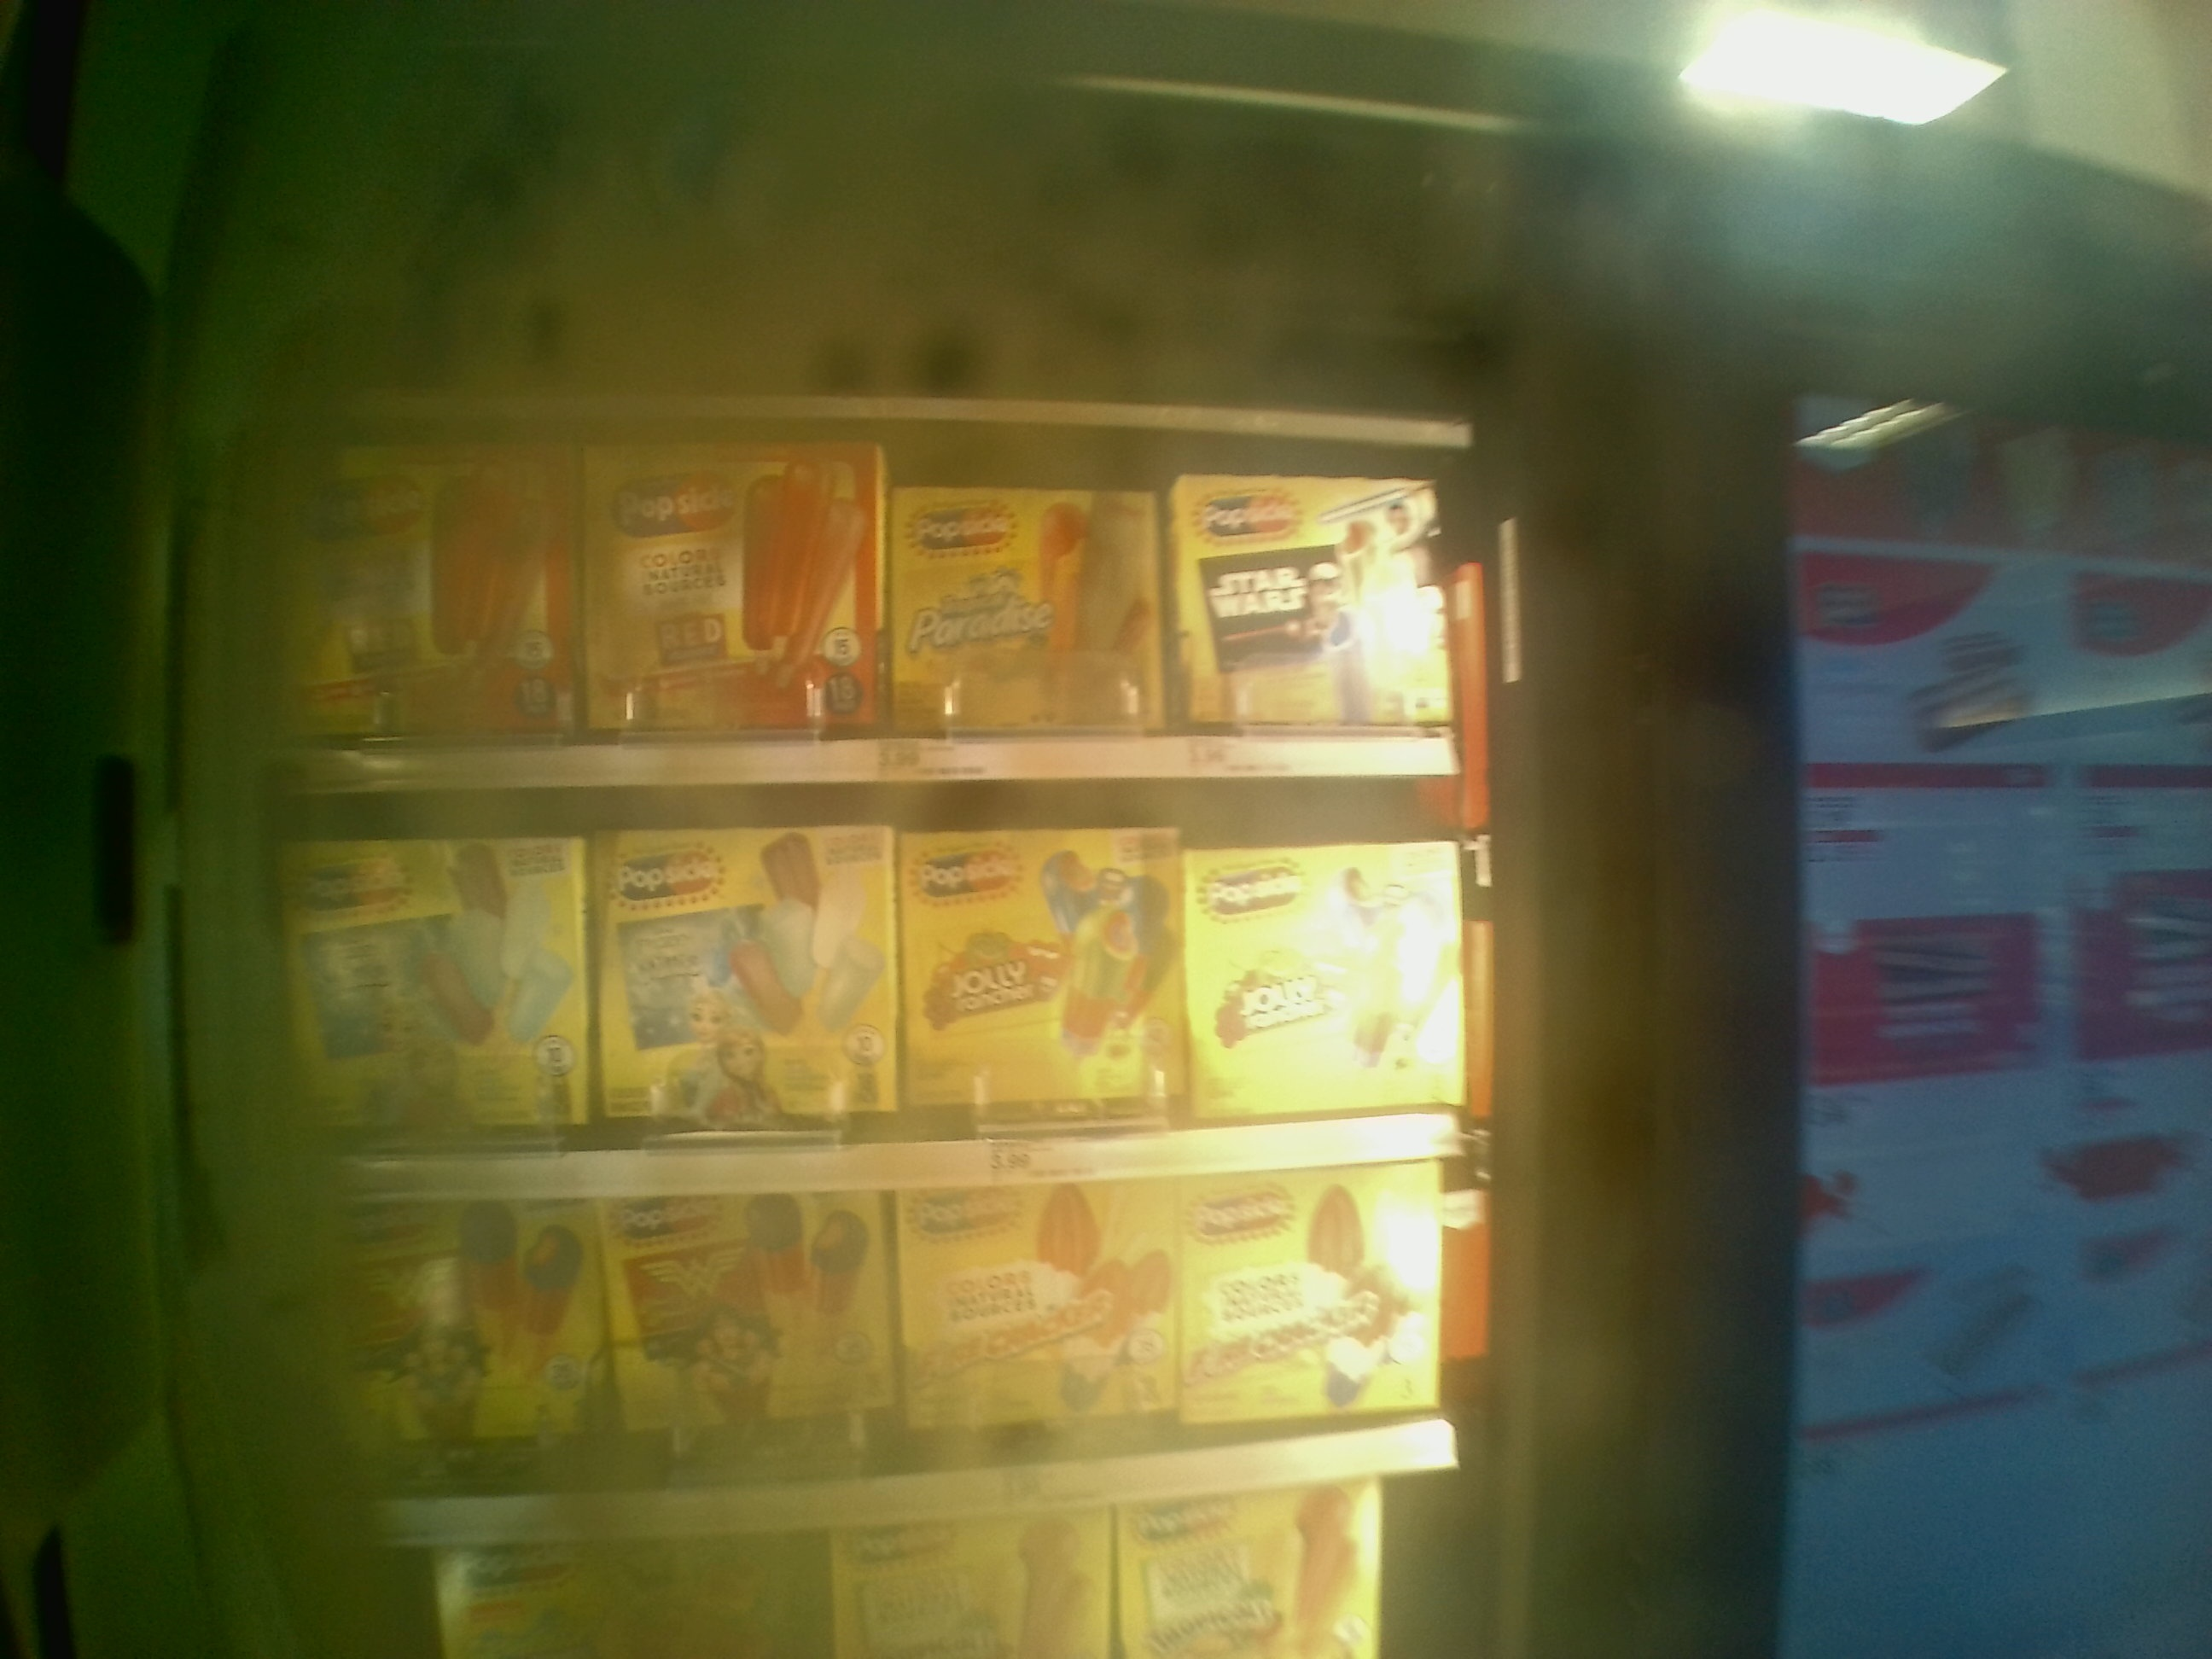frozen-food-shelf: (239, 796, 1505, 1202), (239, 403, 1479, 793)
